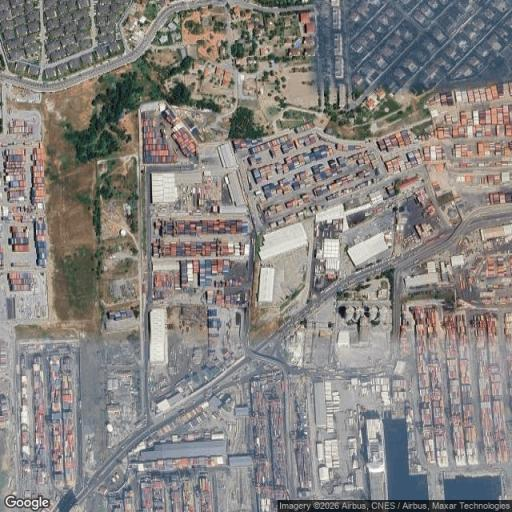ship: (367, 419, 389, 500)
